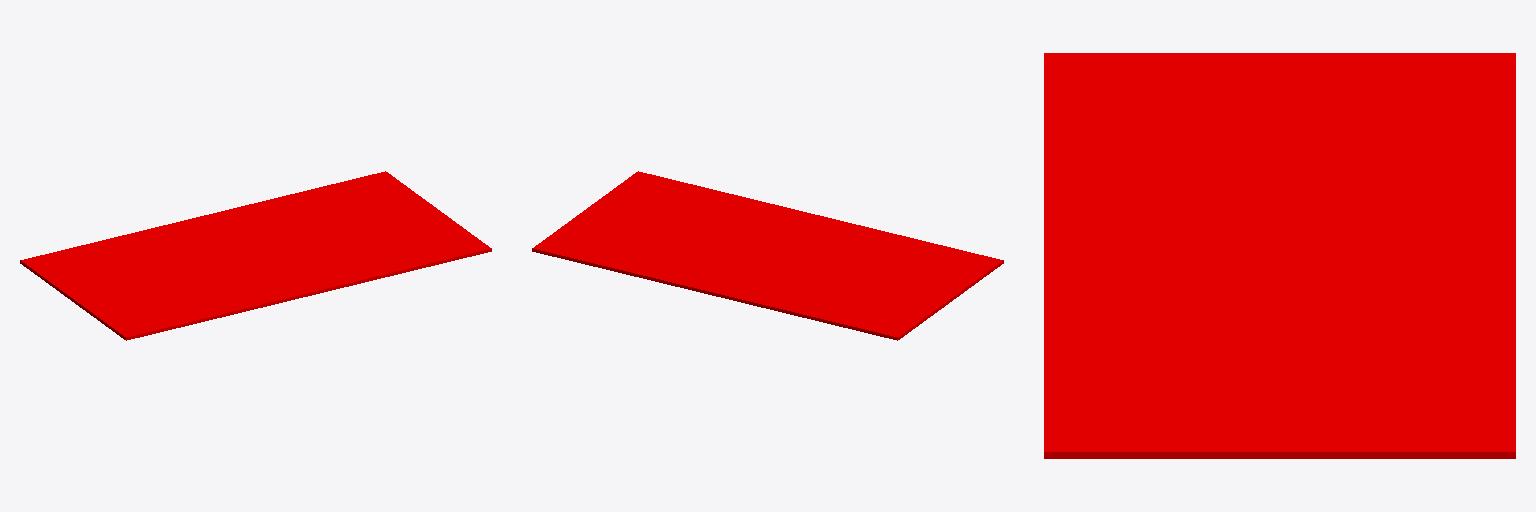
URDF robot description (goal_zone):
<?xml version="1.0" ?>
<robot name="goal_zone">
  <link name="base">
    <visual>
      <origin xyz="0 0 0" rpy="0 0 0"/>
      <geometry>
        <box size="0.12 0.06 0.001"/>
      </geometry>
      <material name="goal_color">
        <color rgba="1 0 0 0.4"/> <!-- green + transparent -->
      </material>
    </visual>
    <collision>
      <origin xyz="0 0 0" rpy="0 0 0"/>
      <geometry>
        <box size="0 0 0"/>
      </geometry>
    </collision>
    <inertial>
      <mass value="0.001"/>
      <inertia ixx="1e-5" iyy="1e-5" izz="1e-5"/>
    </inertial>
  </link>
</robot>

--- What the picture shows (computed from the rendered views, not written in the file) ---
3 views of the same robot in one strip: view 1: azimuth 30°, elevation 25°; view 2: azimuth 150°, elevation 25°; view 3: azimuth 270°, elevation 25° (orthographic).
Robot: goal_zone — 1 links, 0 joints (none); root link base; default pose: all joints at 0.
Links seen in each view (by area): view 1: base; view 2: base; view 3: base.
Boxes of the visible links, x1,y1,x2,y2 form: base: (20,171,491,340); base: (532,171,1003,340); base: (1044,53,1515,458).
Size in the robot's own frame: 0.12 by 0.06 by 0.001 metres.
Geometry: primitives only (box / cylinder / sphere), no mesh files.